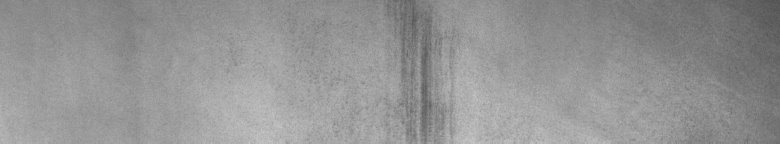ka: (395, 7, 447, 136)
